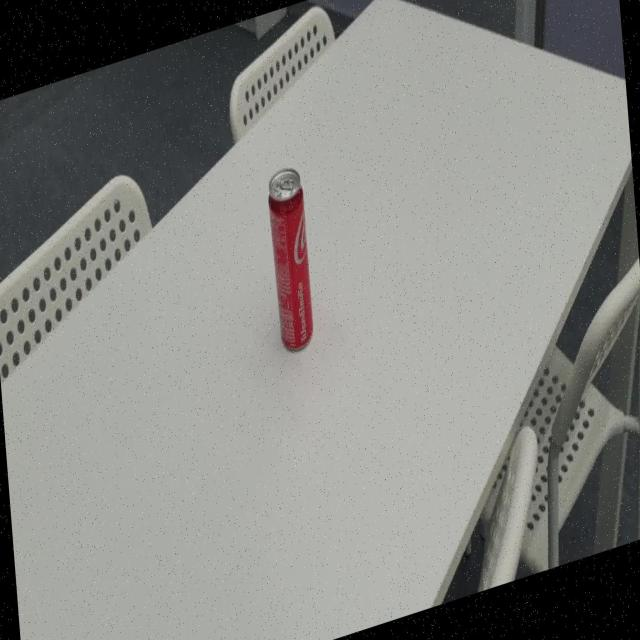coca-cola: (264, 158, 317, 364)
